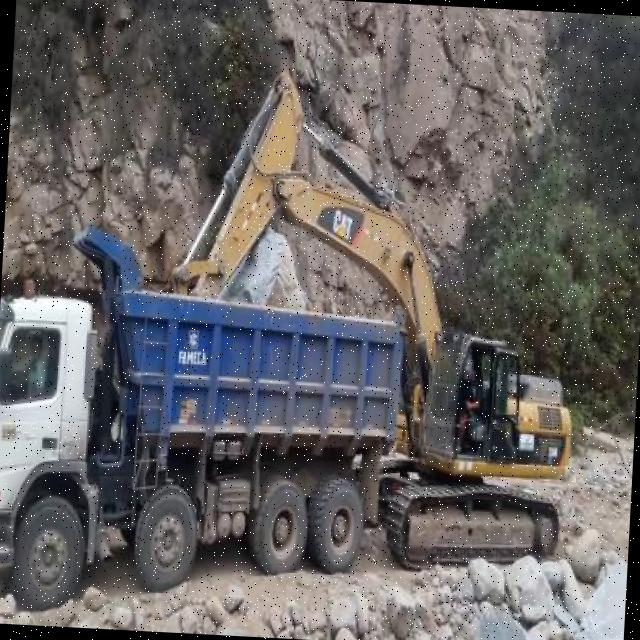Dump Truck: (0, 219, 412, 634)
Excavator: (155, 54, 590, 578)
